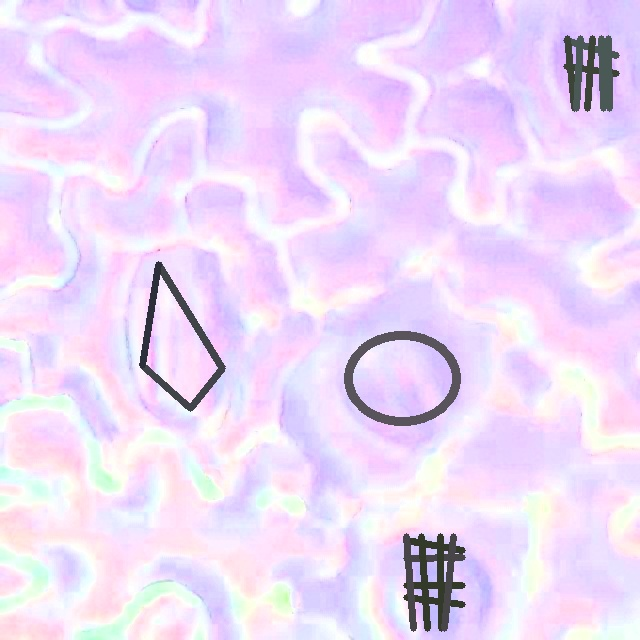close: (140, 262, 224, 411)
open: (343, 331, 461, 426), (403, 533, 465, 630), (563, 36, 619, 111)
